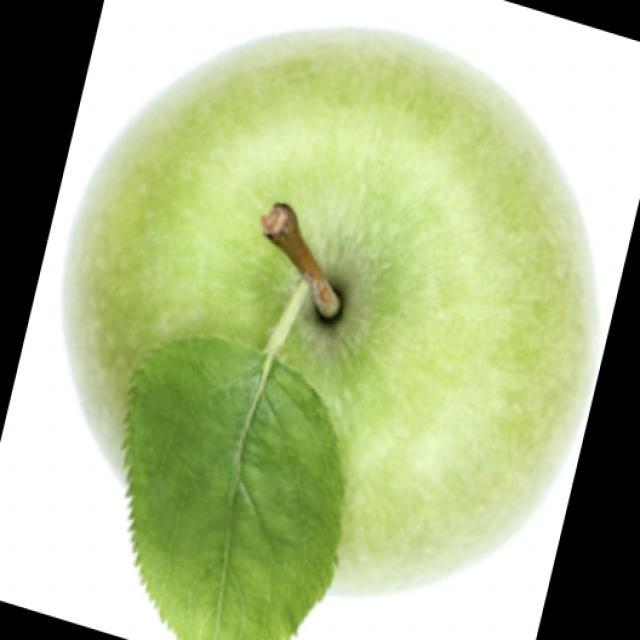Fresh Apple: (107, 54, 558, 594)
